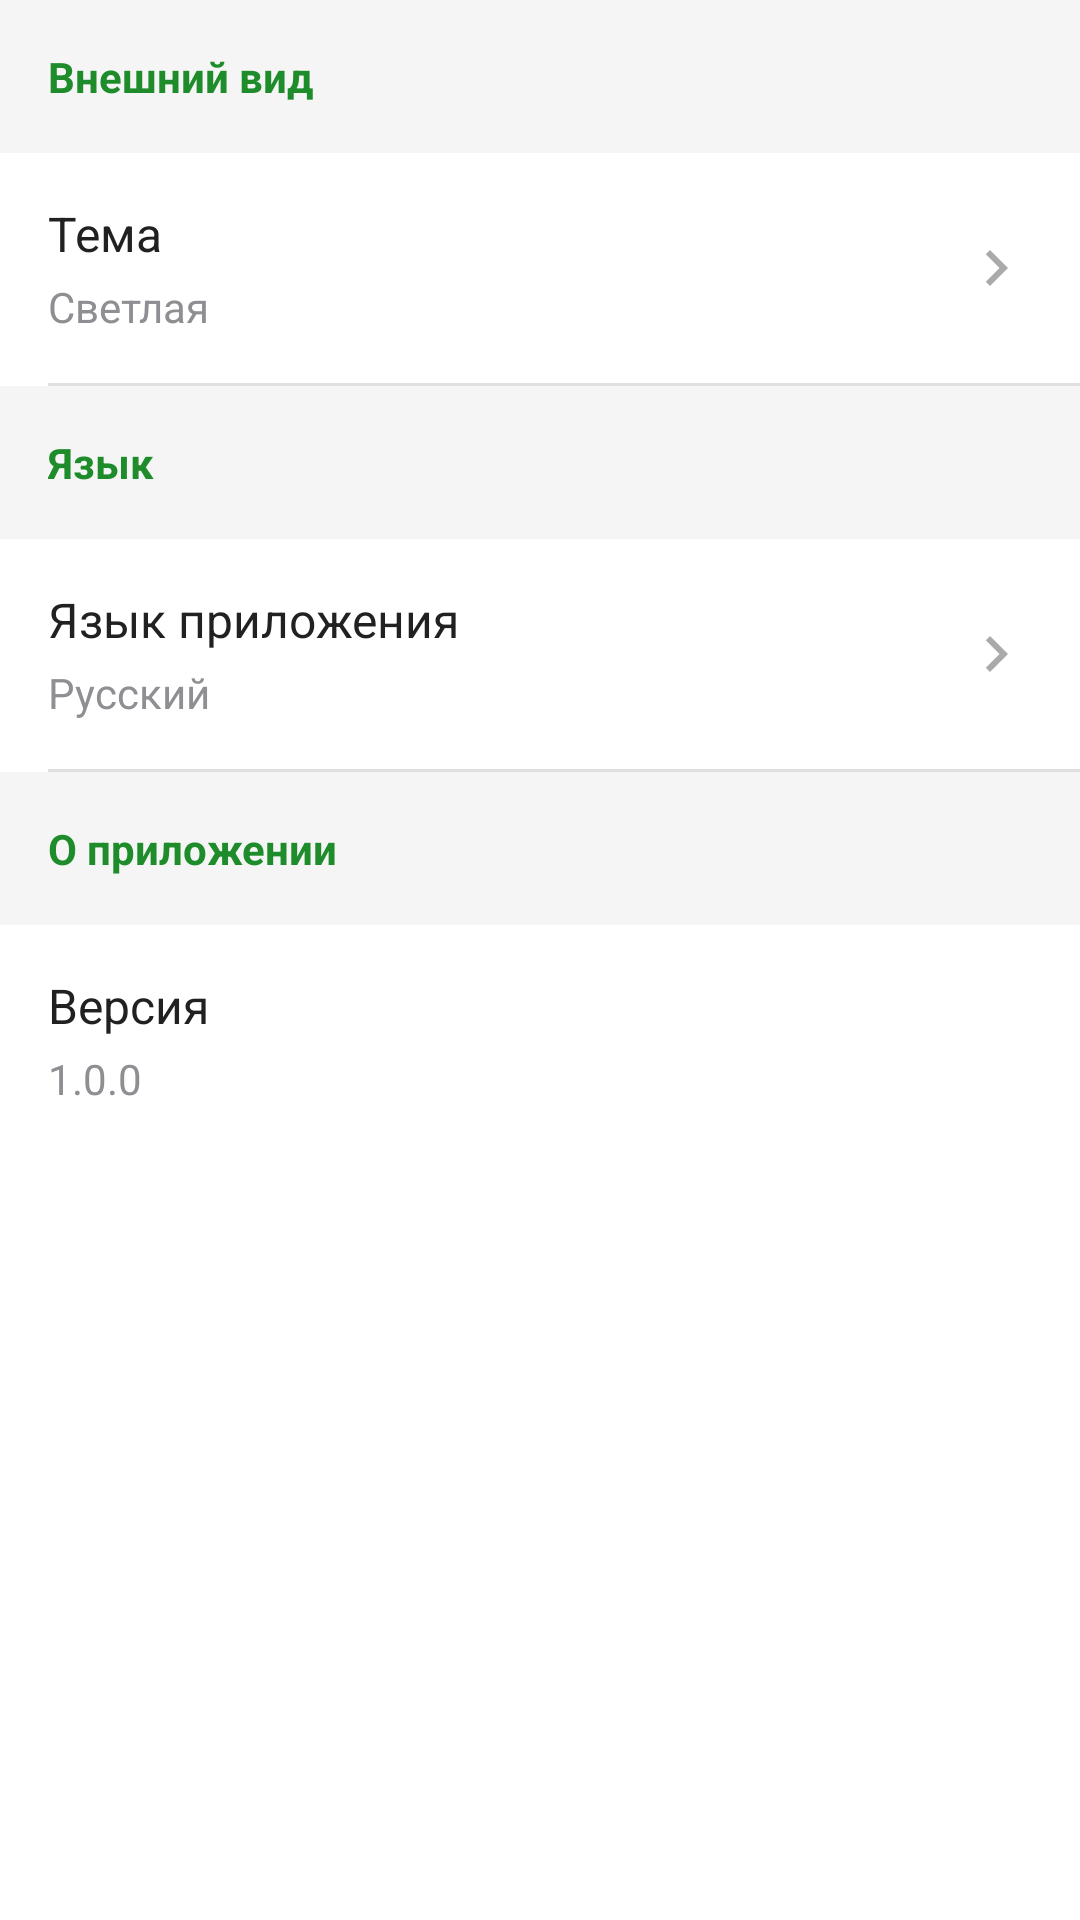

Icon bounding boxes for this 1080 × 1920 phone screenshot, format (x1, y1, x2, y2):
chevron right: (986, 250, 1008, 286), (986, 636, 1008, 672)
